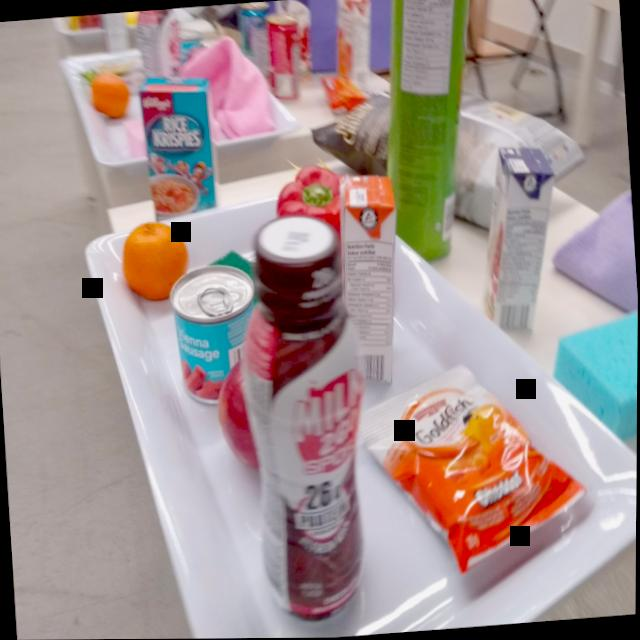cereal: (134, 73, 226, 223)
chocolate_drink: (227, 205, 390, 631)
crackers: (344, 349, 595, 581)
grape_juice: (468, 139, 570, 339)
orange: (116, 215, 195, 308)
pringles: (371, 0, 501, 266)
sausages: (166, 257, 264, 410)
sponge_opl: (540, 301, 638, 448)
